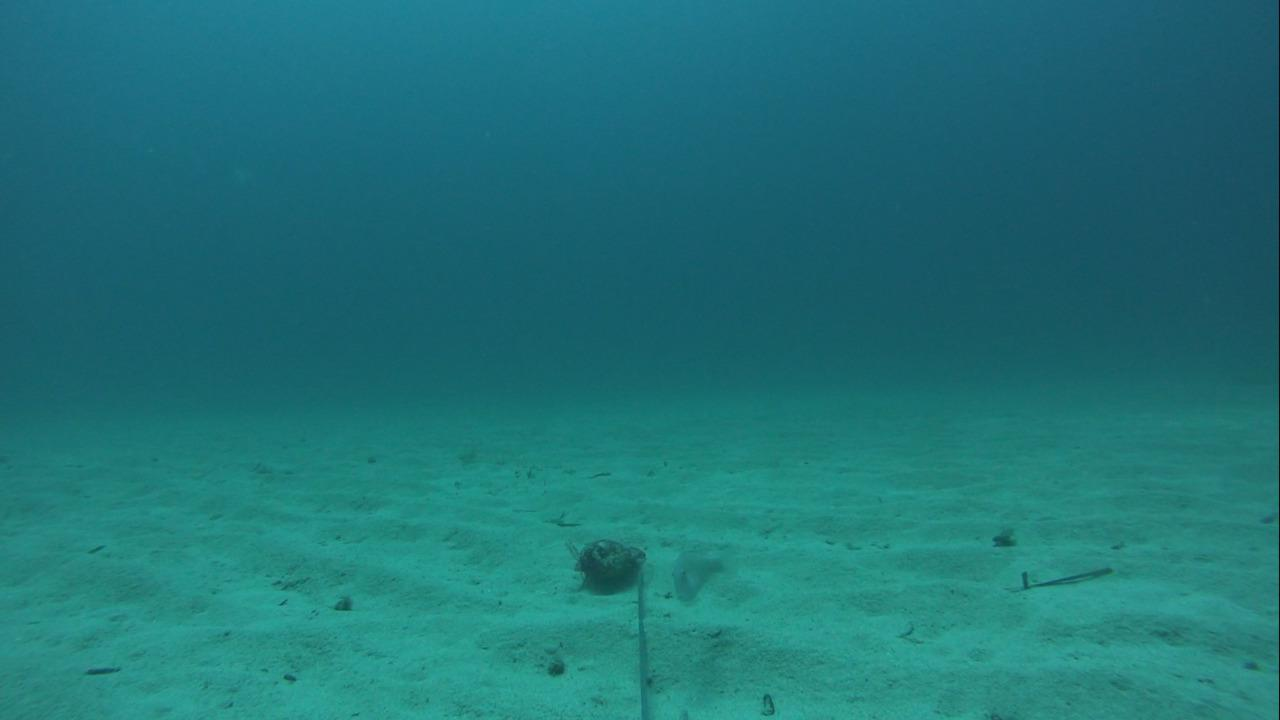raor: (664, 543, 734, 611)
